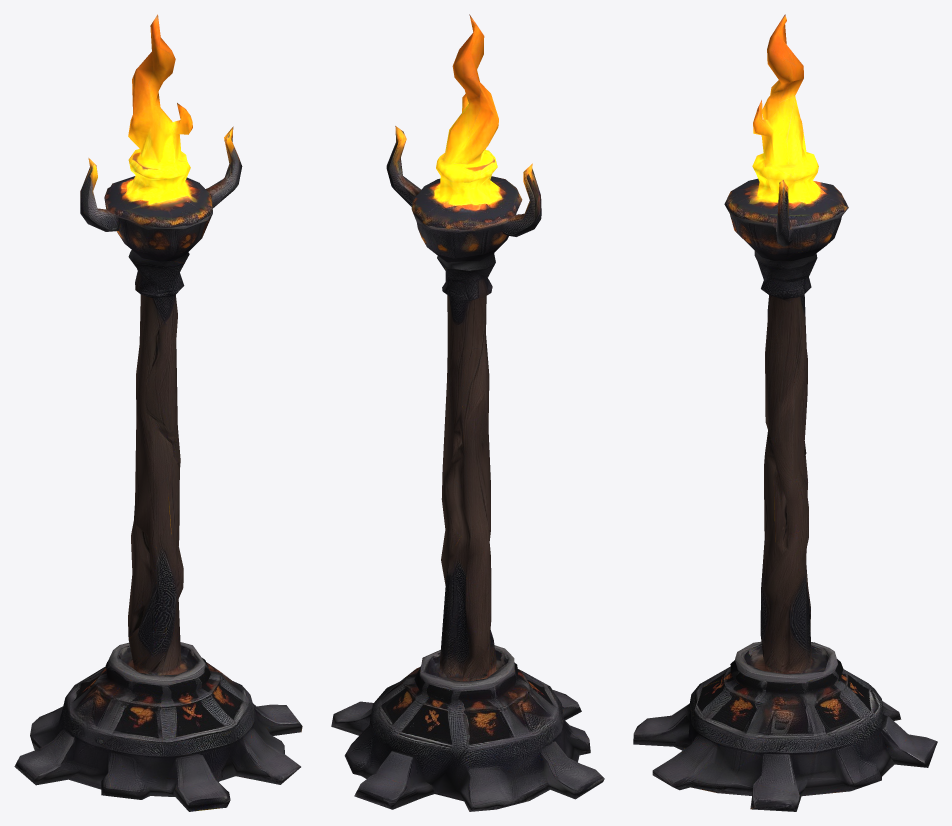
File: prop-torch-post.glb
The picture shows the model from 3 angles, left to right: view 1: azimuth 30°, elevation 25°; view 2: azimuth 150°, elevation 25°; view 3: azimuth 270°, elevation 25°; orthographic projection.
Bounding box in the file's own units: 0.7451 × 2 × 0.7518.
Materials: 1 (1 with a texture image).
